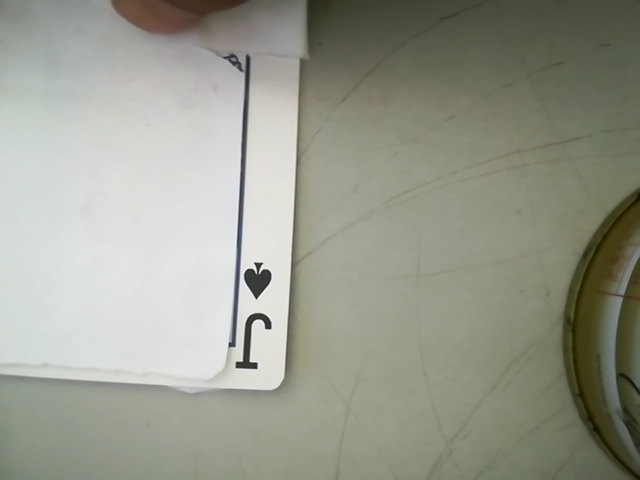ht j: (218, 237, 283, 381)
